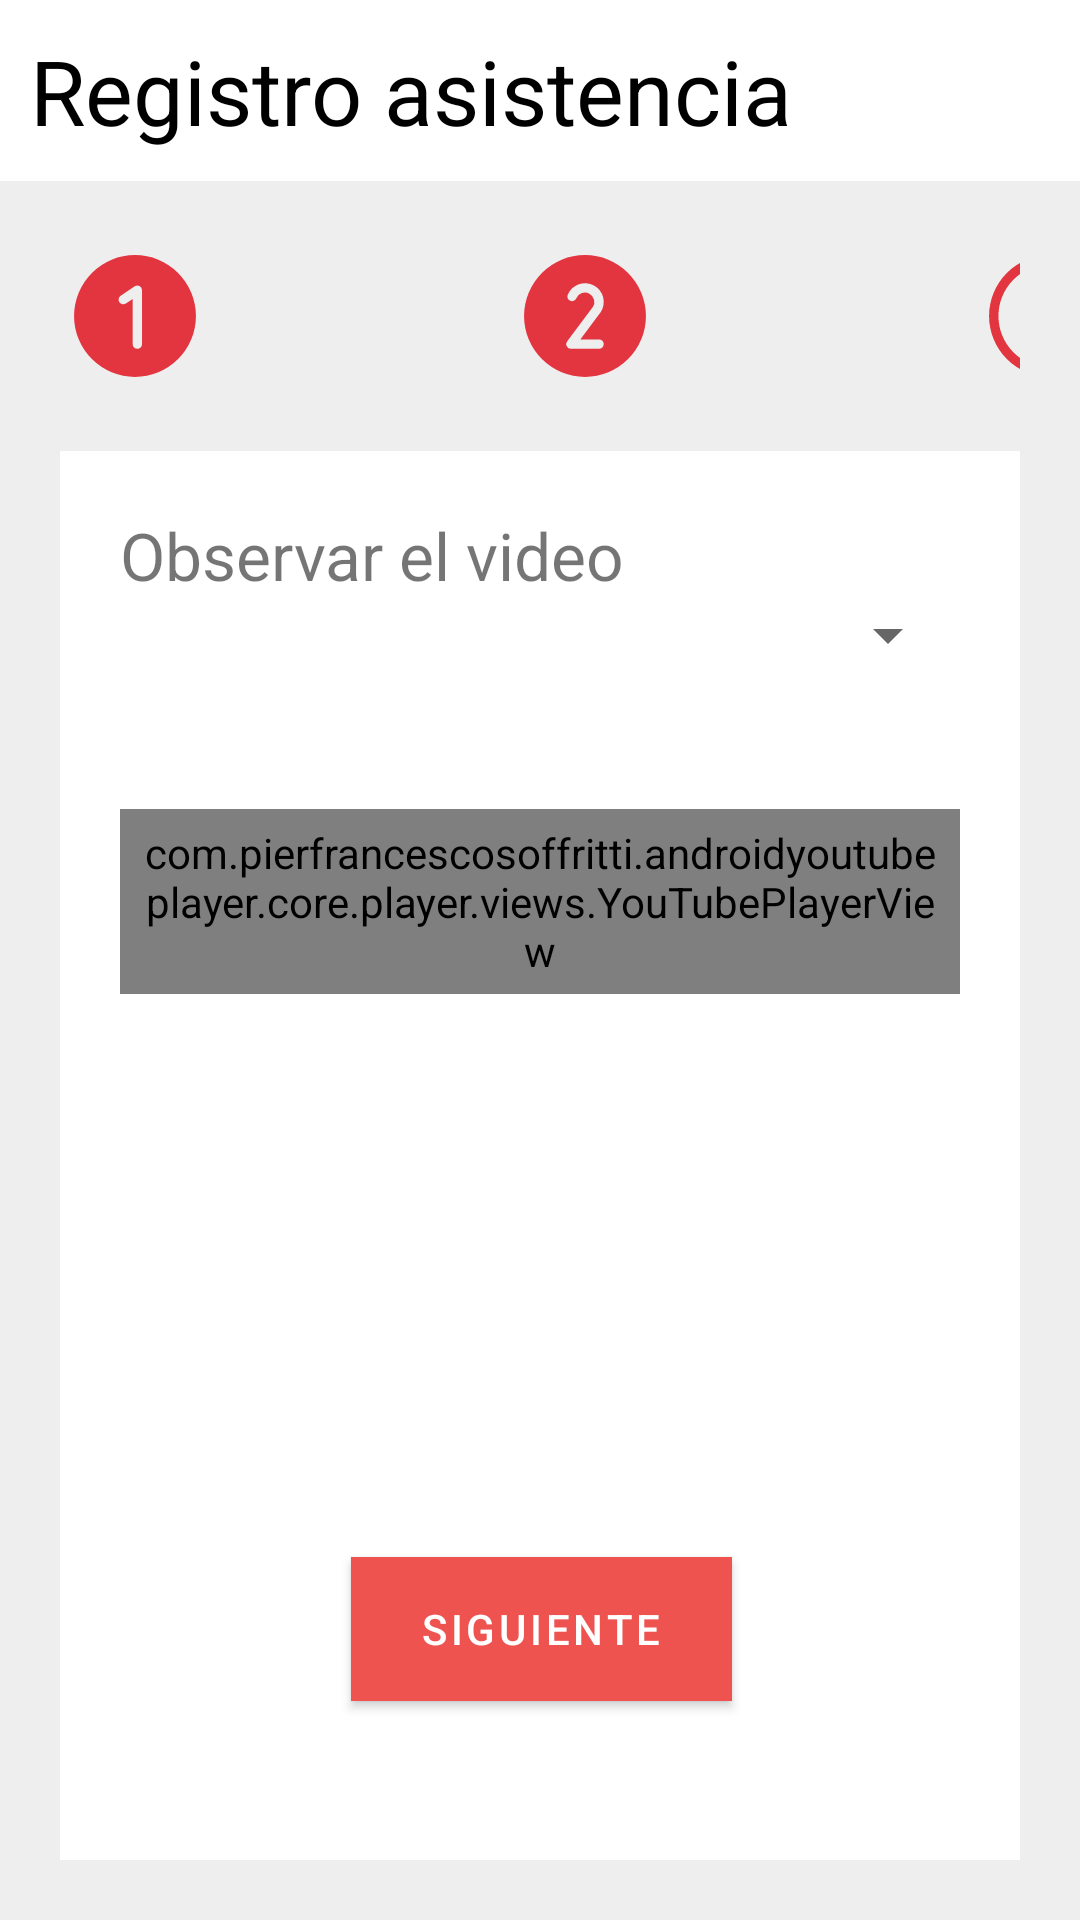

Icon click points for this 1080px x 1920px phone screenshot, format [x,y]:
numbertwo: [585,316]
